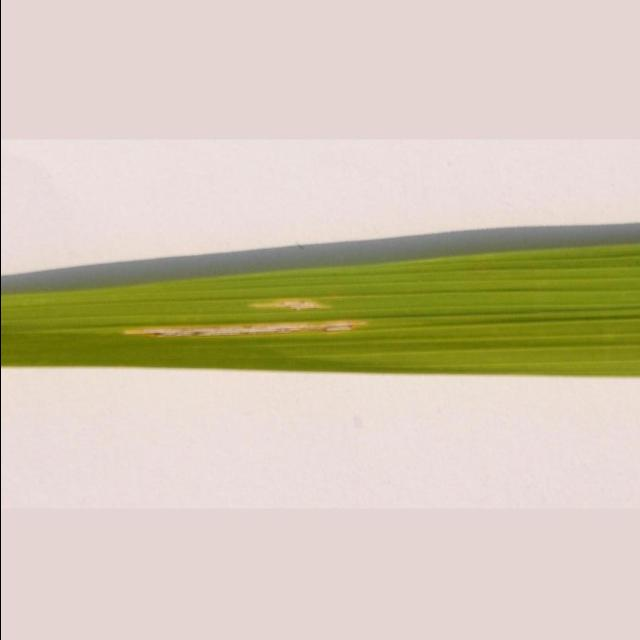Bacterial leaf blight: (109, 282, 405, 350)
